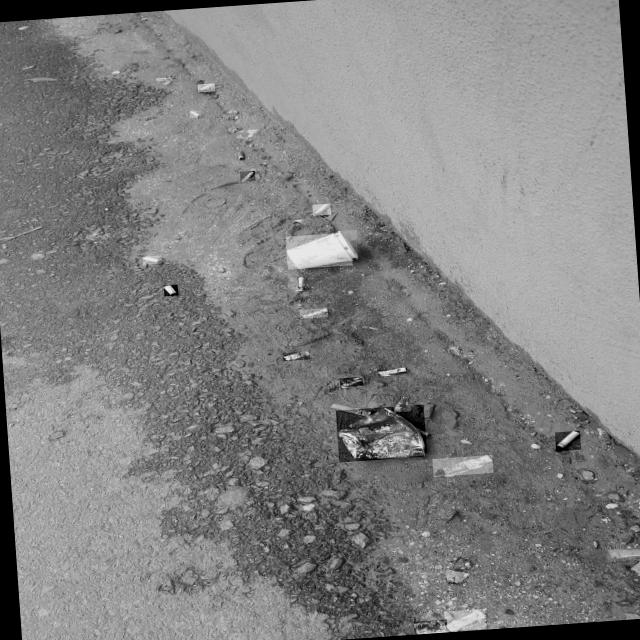Cigarette: (433, 455, 492, 476), (446, 609, 485, 631), (555, 431, 580, 451), (331, 404, 375, 415), (378, 368, 407, 375), (313, 204, 330, 215), (240, 171, 255, 181), (198, 83, 214, 92), (163, 286, 178, 295), (143, 257, 162, 263), (298, 277, 305, 289), (236, 151, 245, 160), (189, 111, 201, 117)
Cup: (337, 407, 427, 458), (287, 233, 352, 268), (335, 231, 358, 259)
Paper bag: (607, 548, 640, 559)
Unlabeled litter: (414, 620, 447, 633), (445, 569, 467, 583), (394, 396, 410, 412), (300, 309, 327, 318), (283, 351, 309, 360), (341, 377, 362, 387), (157, 78, 172, 80)
